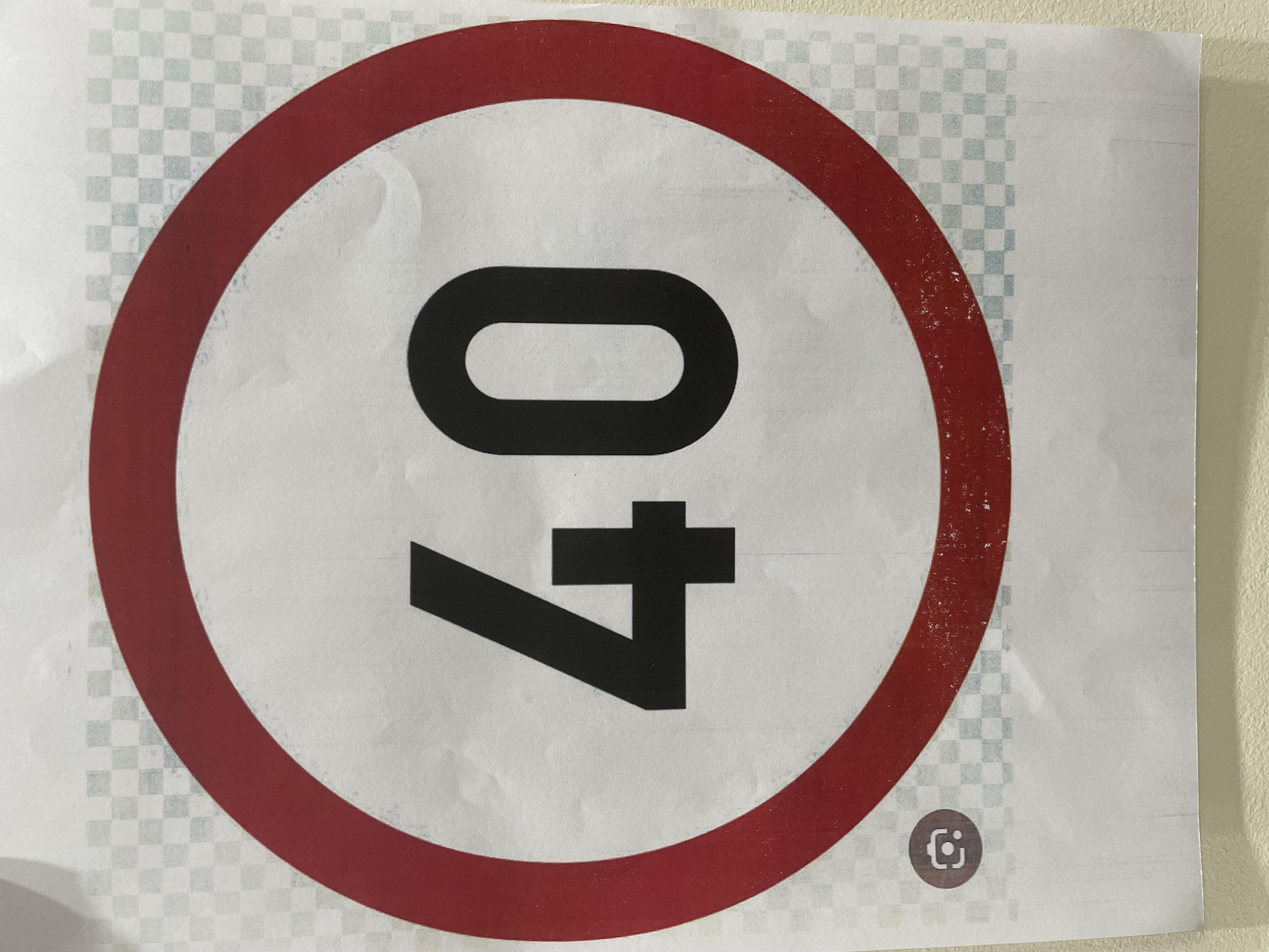40-Speed: (5, 57, 1241, 768)
